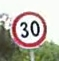limite 30: (9, 10, 47, 49)
